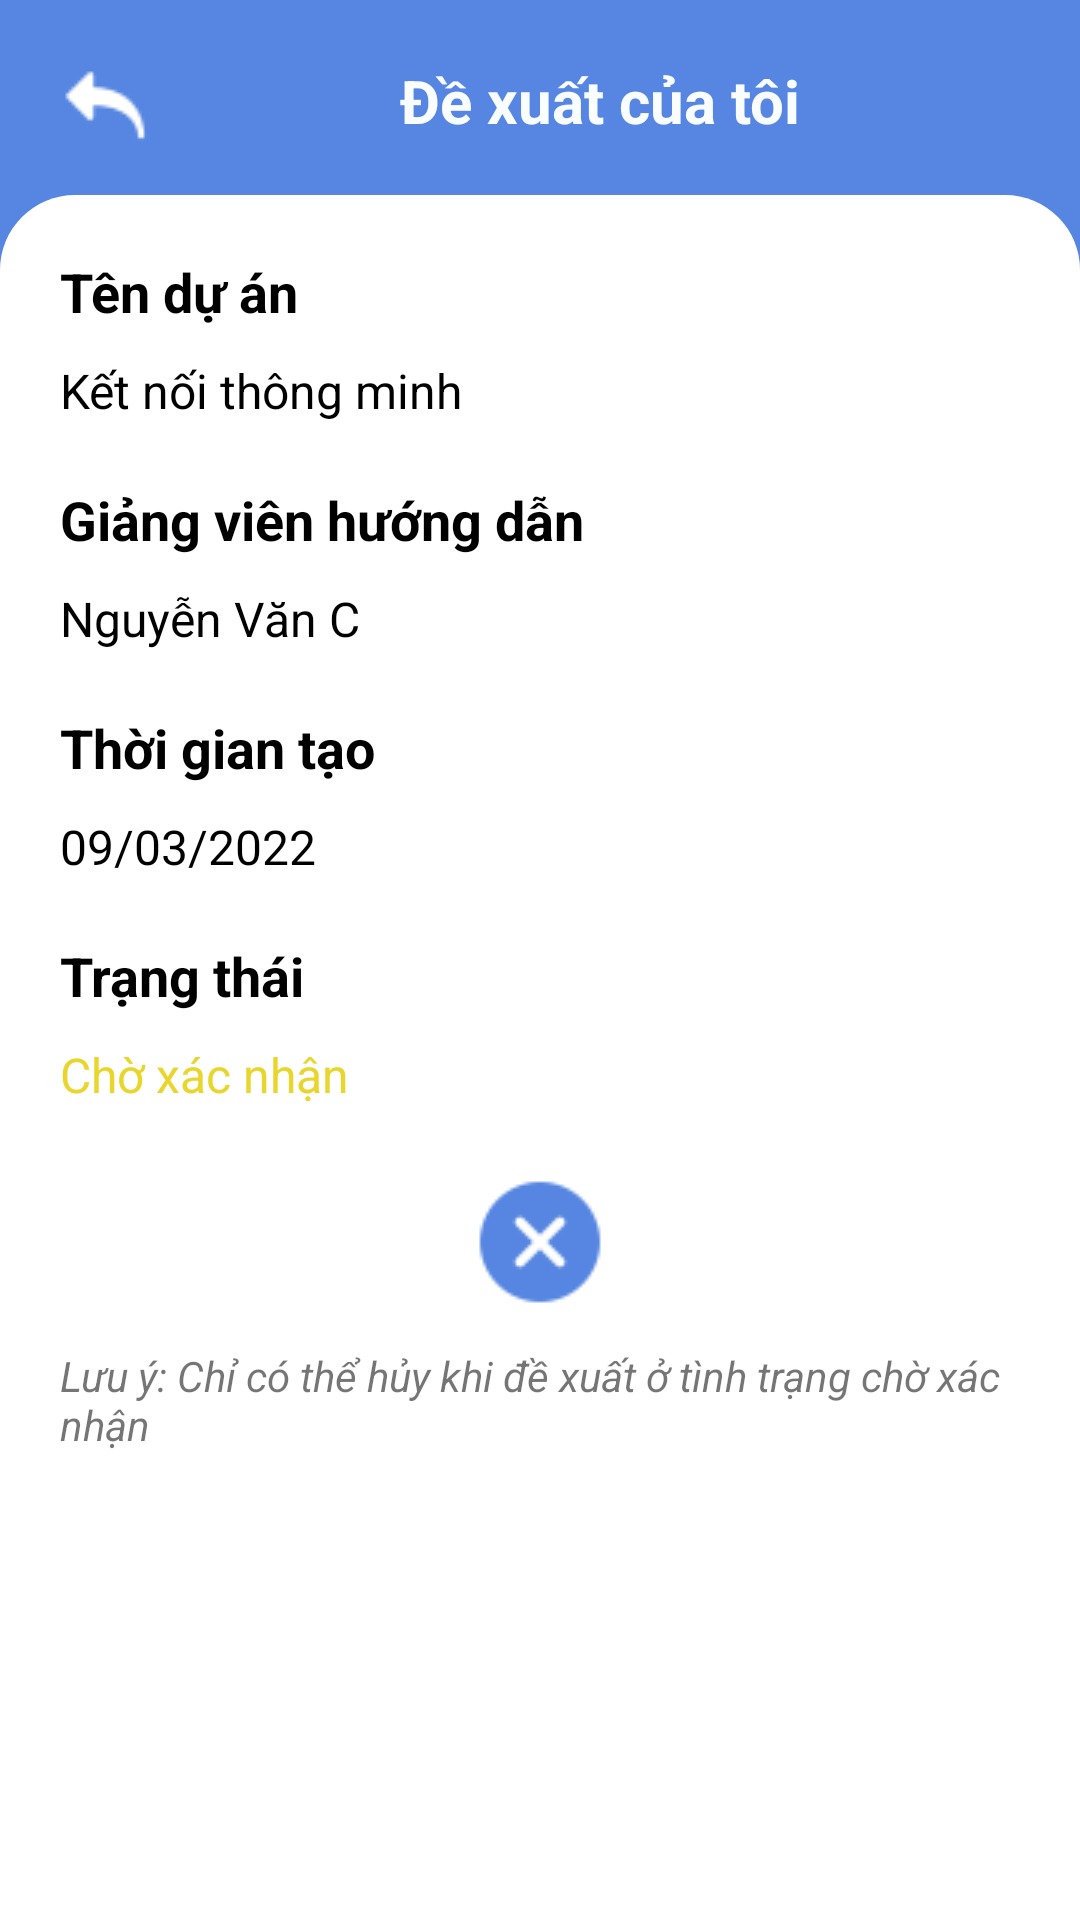

Where to tap for icons on this 1080 × 1920 app screen, as [x,y]:
backarrow: [105,105]
cancel: [540,1242]
